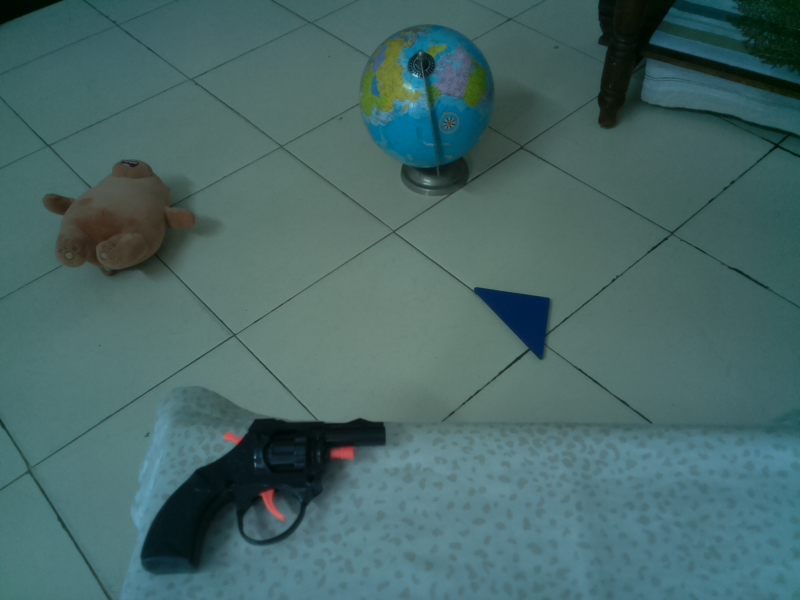Gun: (138, 411, 391, 575)
Triangle: (471, 281, 556, 364)
